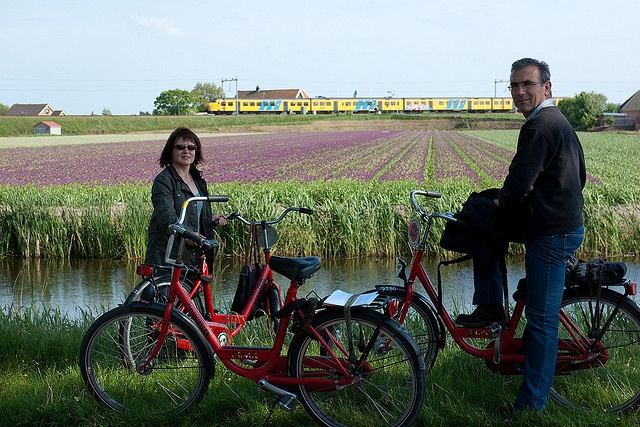non-vehicle: (80, 191, 433, 422), (367, 189, 640, 411), (125, 204, 324, 343)
